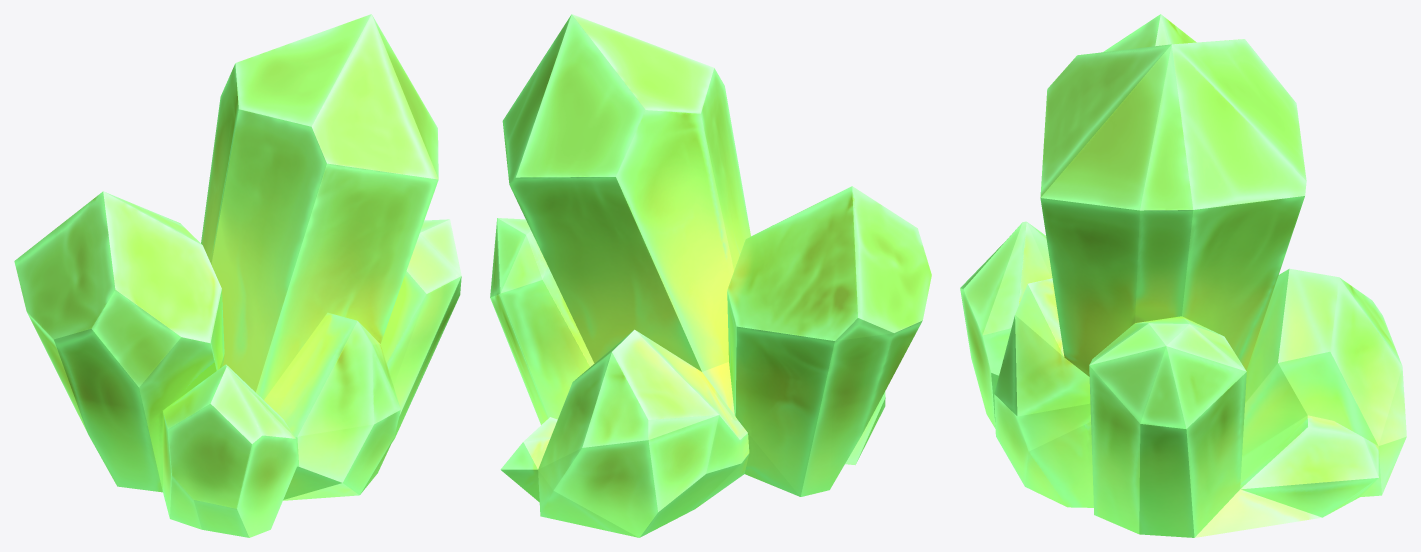
File: crystal_green.fbx
The picture shows the model from 3 angles, left to right: view 1: azimuth 30°, elevation 25°; view 2: azimuth 150°, elevation 25°; view 3: azimuth 270°, elevation 25°; orthographic projection. The views are drawn at different scales.
Visible parts, largest first — view 1: crystal_green; view 2: crystal_green; view 3: crystal_green.
Part boxes in pixels (bbox=[...]): crystal_green: bbox=[14, 14, 461, 537]; crystal_green: bbox=[490, 14, 931, 537]; crystal_green: bbox=[960, 14, 1406, 537].
Size of the model in its own units: 1.66 by 1.62 by 1.35.
